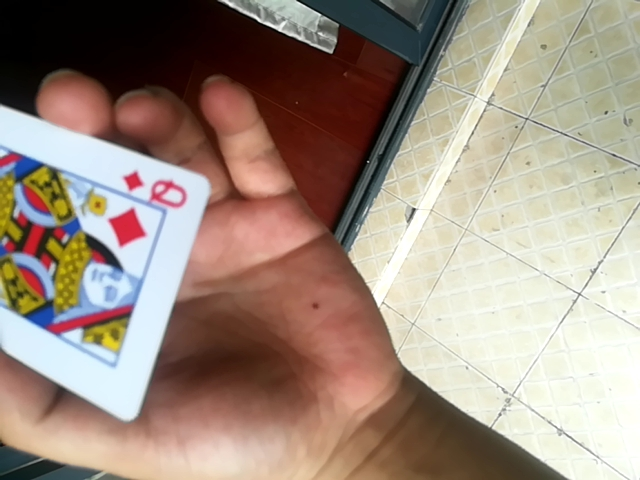fk q: (0, 63, 212, 423)
